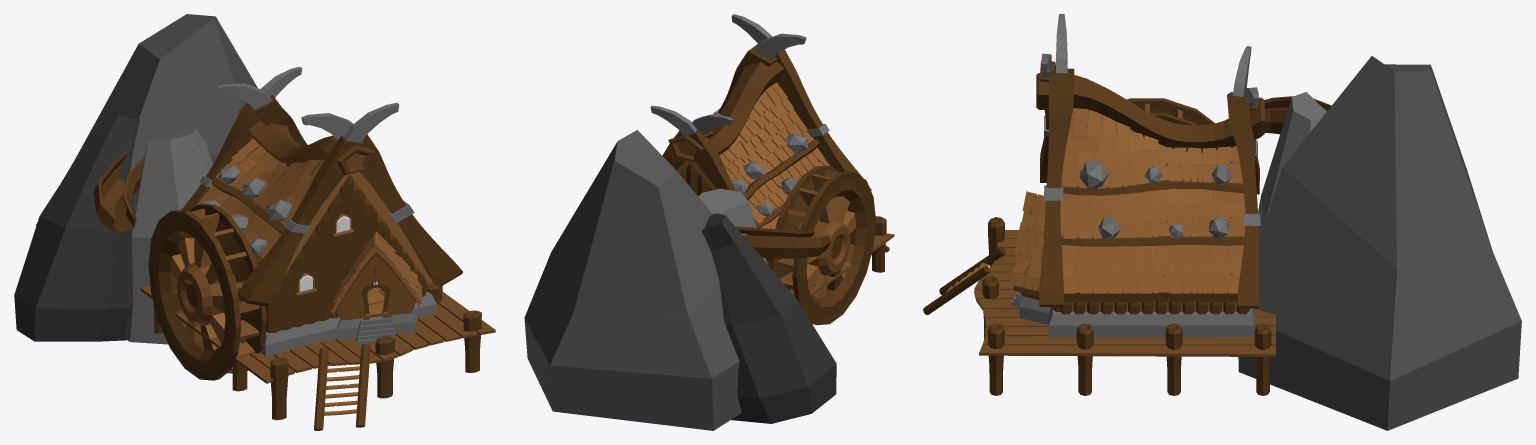
File: A_MillBase.fbx
The picture shows the model from 3 angles, left to right: view 1: azimuth 30°, elevation 25°; view 2: azimuth 150°, elevation 25°; view 3: azimuth 270°, elevation 25°; orthographic projection. The views are drawn at different scales.
Visible parts, largest first — view 1: A_MillBase.001, A_MillBaseMill; view 2: A_MillBase.001, A_MillBaseMill; view 3: A_MillBase.001, A_MillBaseMill.
Part boxes in pixels (x1,y1,x2,y2): A_MillBase.001: [14, 14, 495, 430]; A_MillBaseMill: [148, 203, 267, 380]; A_MillBase.001: [524, 14, 894, 430]; A_MillBaseMill: [769, 165, 875, 325]; A_MillBase.001: [923, 14, 1521, 430]; A_MillBaseMill: [1127, 98, 1215, 125].
Size of the model in its own units: 1577 by 1427 by 2285.
